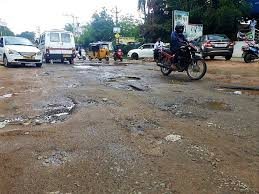pothole: (14, 103, 92, 122), (108, 69, 150, 97), (188, 94, 233, 119)
